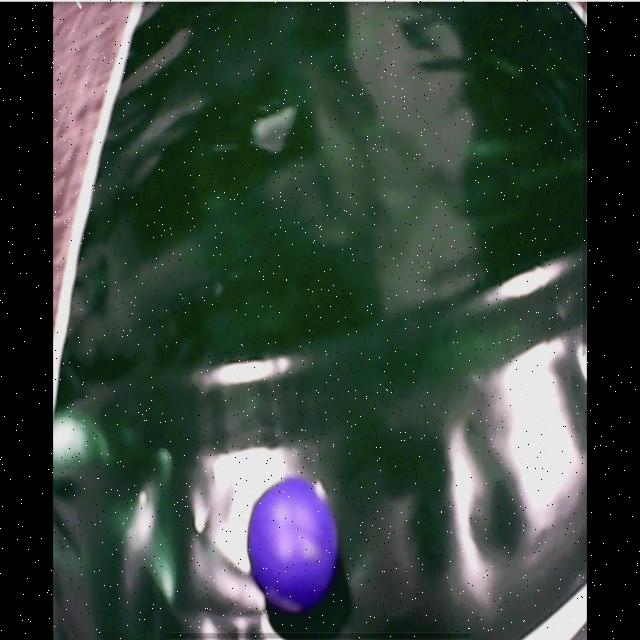ball: (247, 478, 338, 610)
